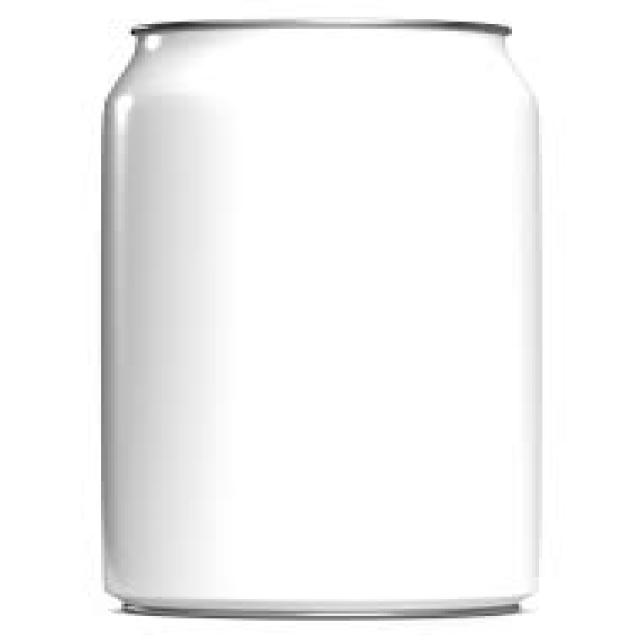Cans: (74, 10, 576, 628)
